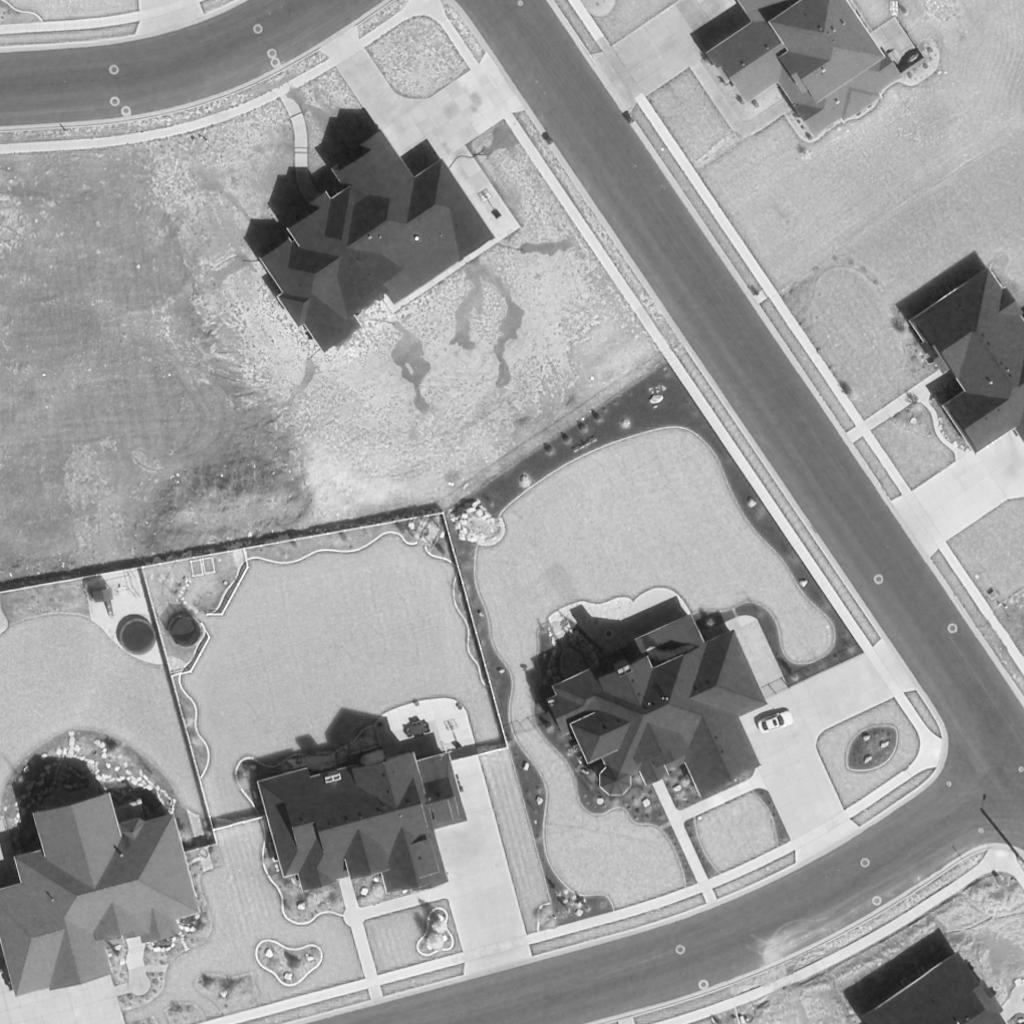vehicle: (756, 711, 794, 735)
